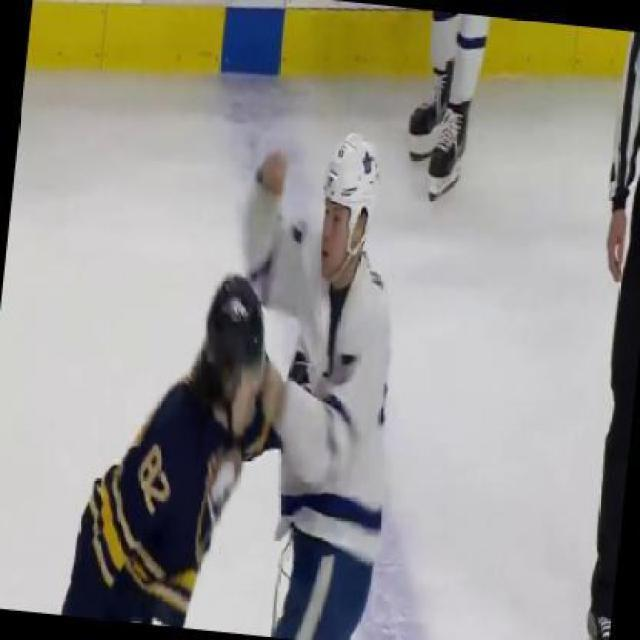fight: (68, 104, 422, 638)
